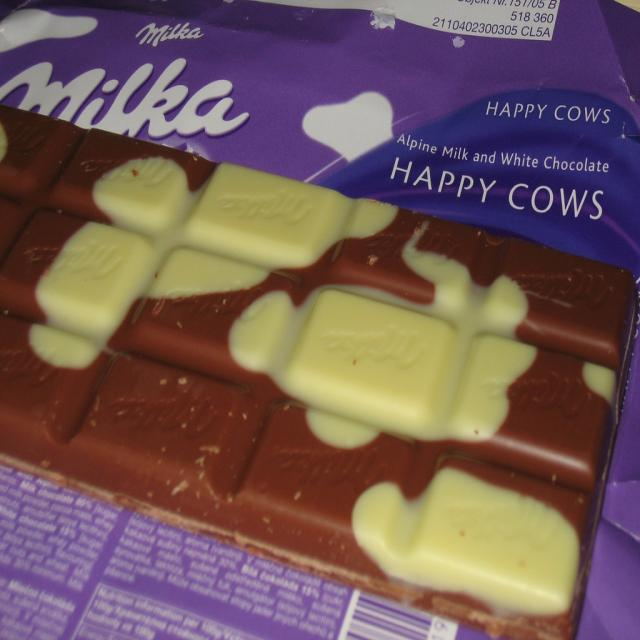milka: (2, 53, 257, 143), (131, 14, 212, 58)
